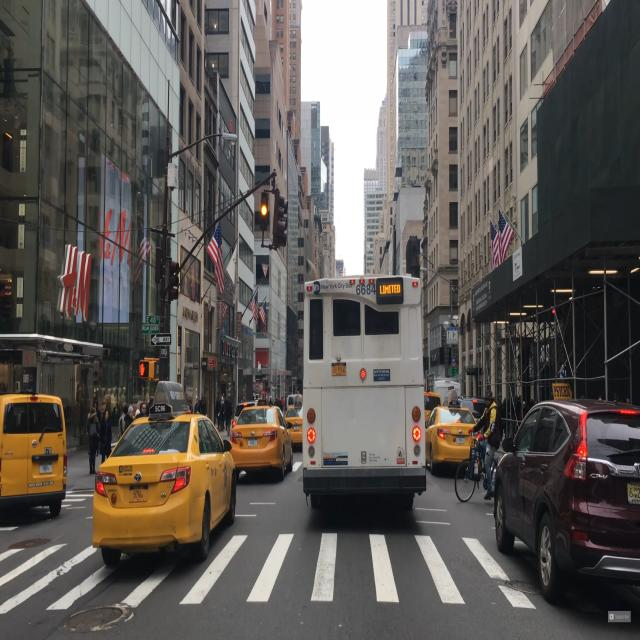Crosswalk: (0, 529, 548, 615)
